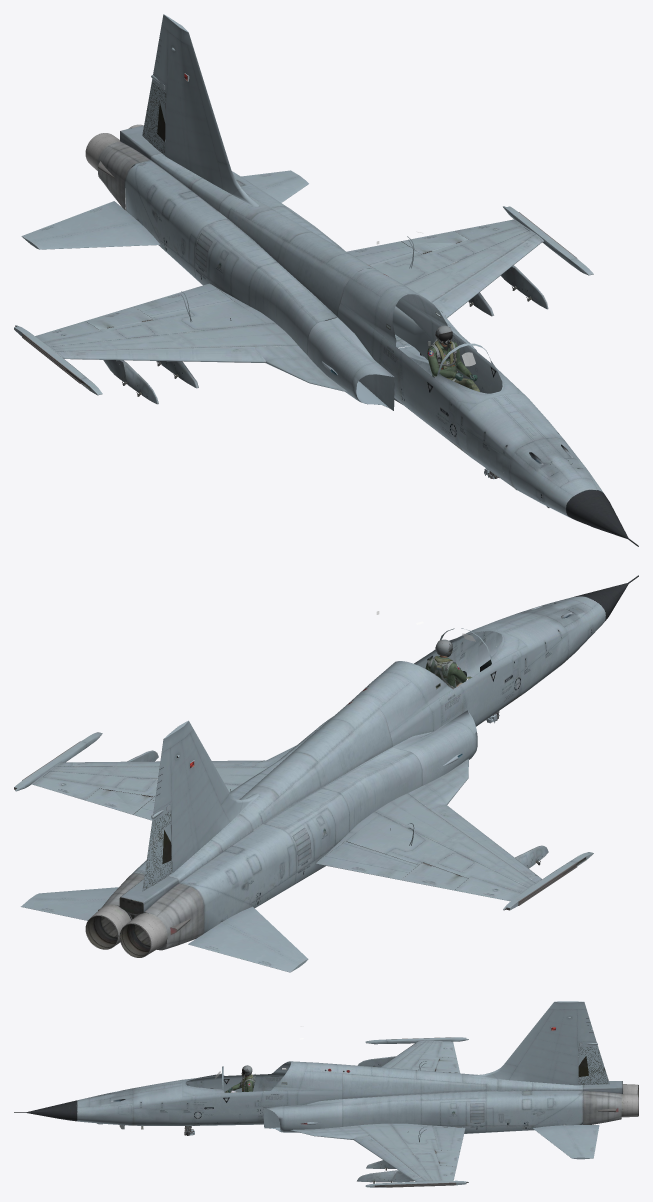
3 renders of one model, top to bottom at view 1: azimuth 30°, elevation 25°; view 2: azimuth 150°, elevation 25°; view 3: azimuth 270°, elevation 25°, orthographic. The views are drawn at different scales.
Parts seen in each view (by area): view 1: Object_2, Object_20, Object_18, Object_4, Object_17, Object_37; view 2: Object_20, Object_18, Object_2, Object_4, Object_17, Object_3, Object_37; view 3: Object_20, Object_2, Object_18, Object_4, Object_17, Object_3, Object_37.
Boxes of the visible parts, box(x1,y1,x2,y2) form: Object_2: box(308, 268, 638, 546); Object_20: box(103, 125, 548, 404); Object_18: box(14, 206, 593, 395); Object_4: box(21, 14, 308, 249); Object_17: box(97, 141, 150, 210); Object_37: box(427, 339, 479, 391); Object_20: box(119, 698, 548, 933); Object_18: box(14, 732, 593, 910); Object_2: box(314, 575, 638, 785); Object_4: box(21, 720, 308, 972); Object_17: box(98, 873, 204, 950); Object_3: box(88, 904, 167, 957); Object_37: box(425, 655, 471, 689); Object_20: box(342, 1056, 622, 1183); Object_2: box(14, 1061, 342, 1135); Object_18: box(290, 1037, 468, 1187); Object_4: box(471, 1001, 638, 1159); Object_17: box(583, 1091, 621, 1124); Object_3: box(621, 1084, 638, 1117); Object_37: box(224, 1074, 255, 1092).
Size of the model in its own units: 7.97 by 3.41 by 14.45.
Materials: 14 (13 with a texture image).
